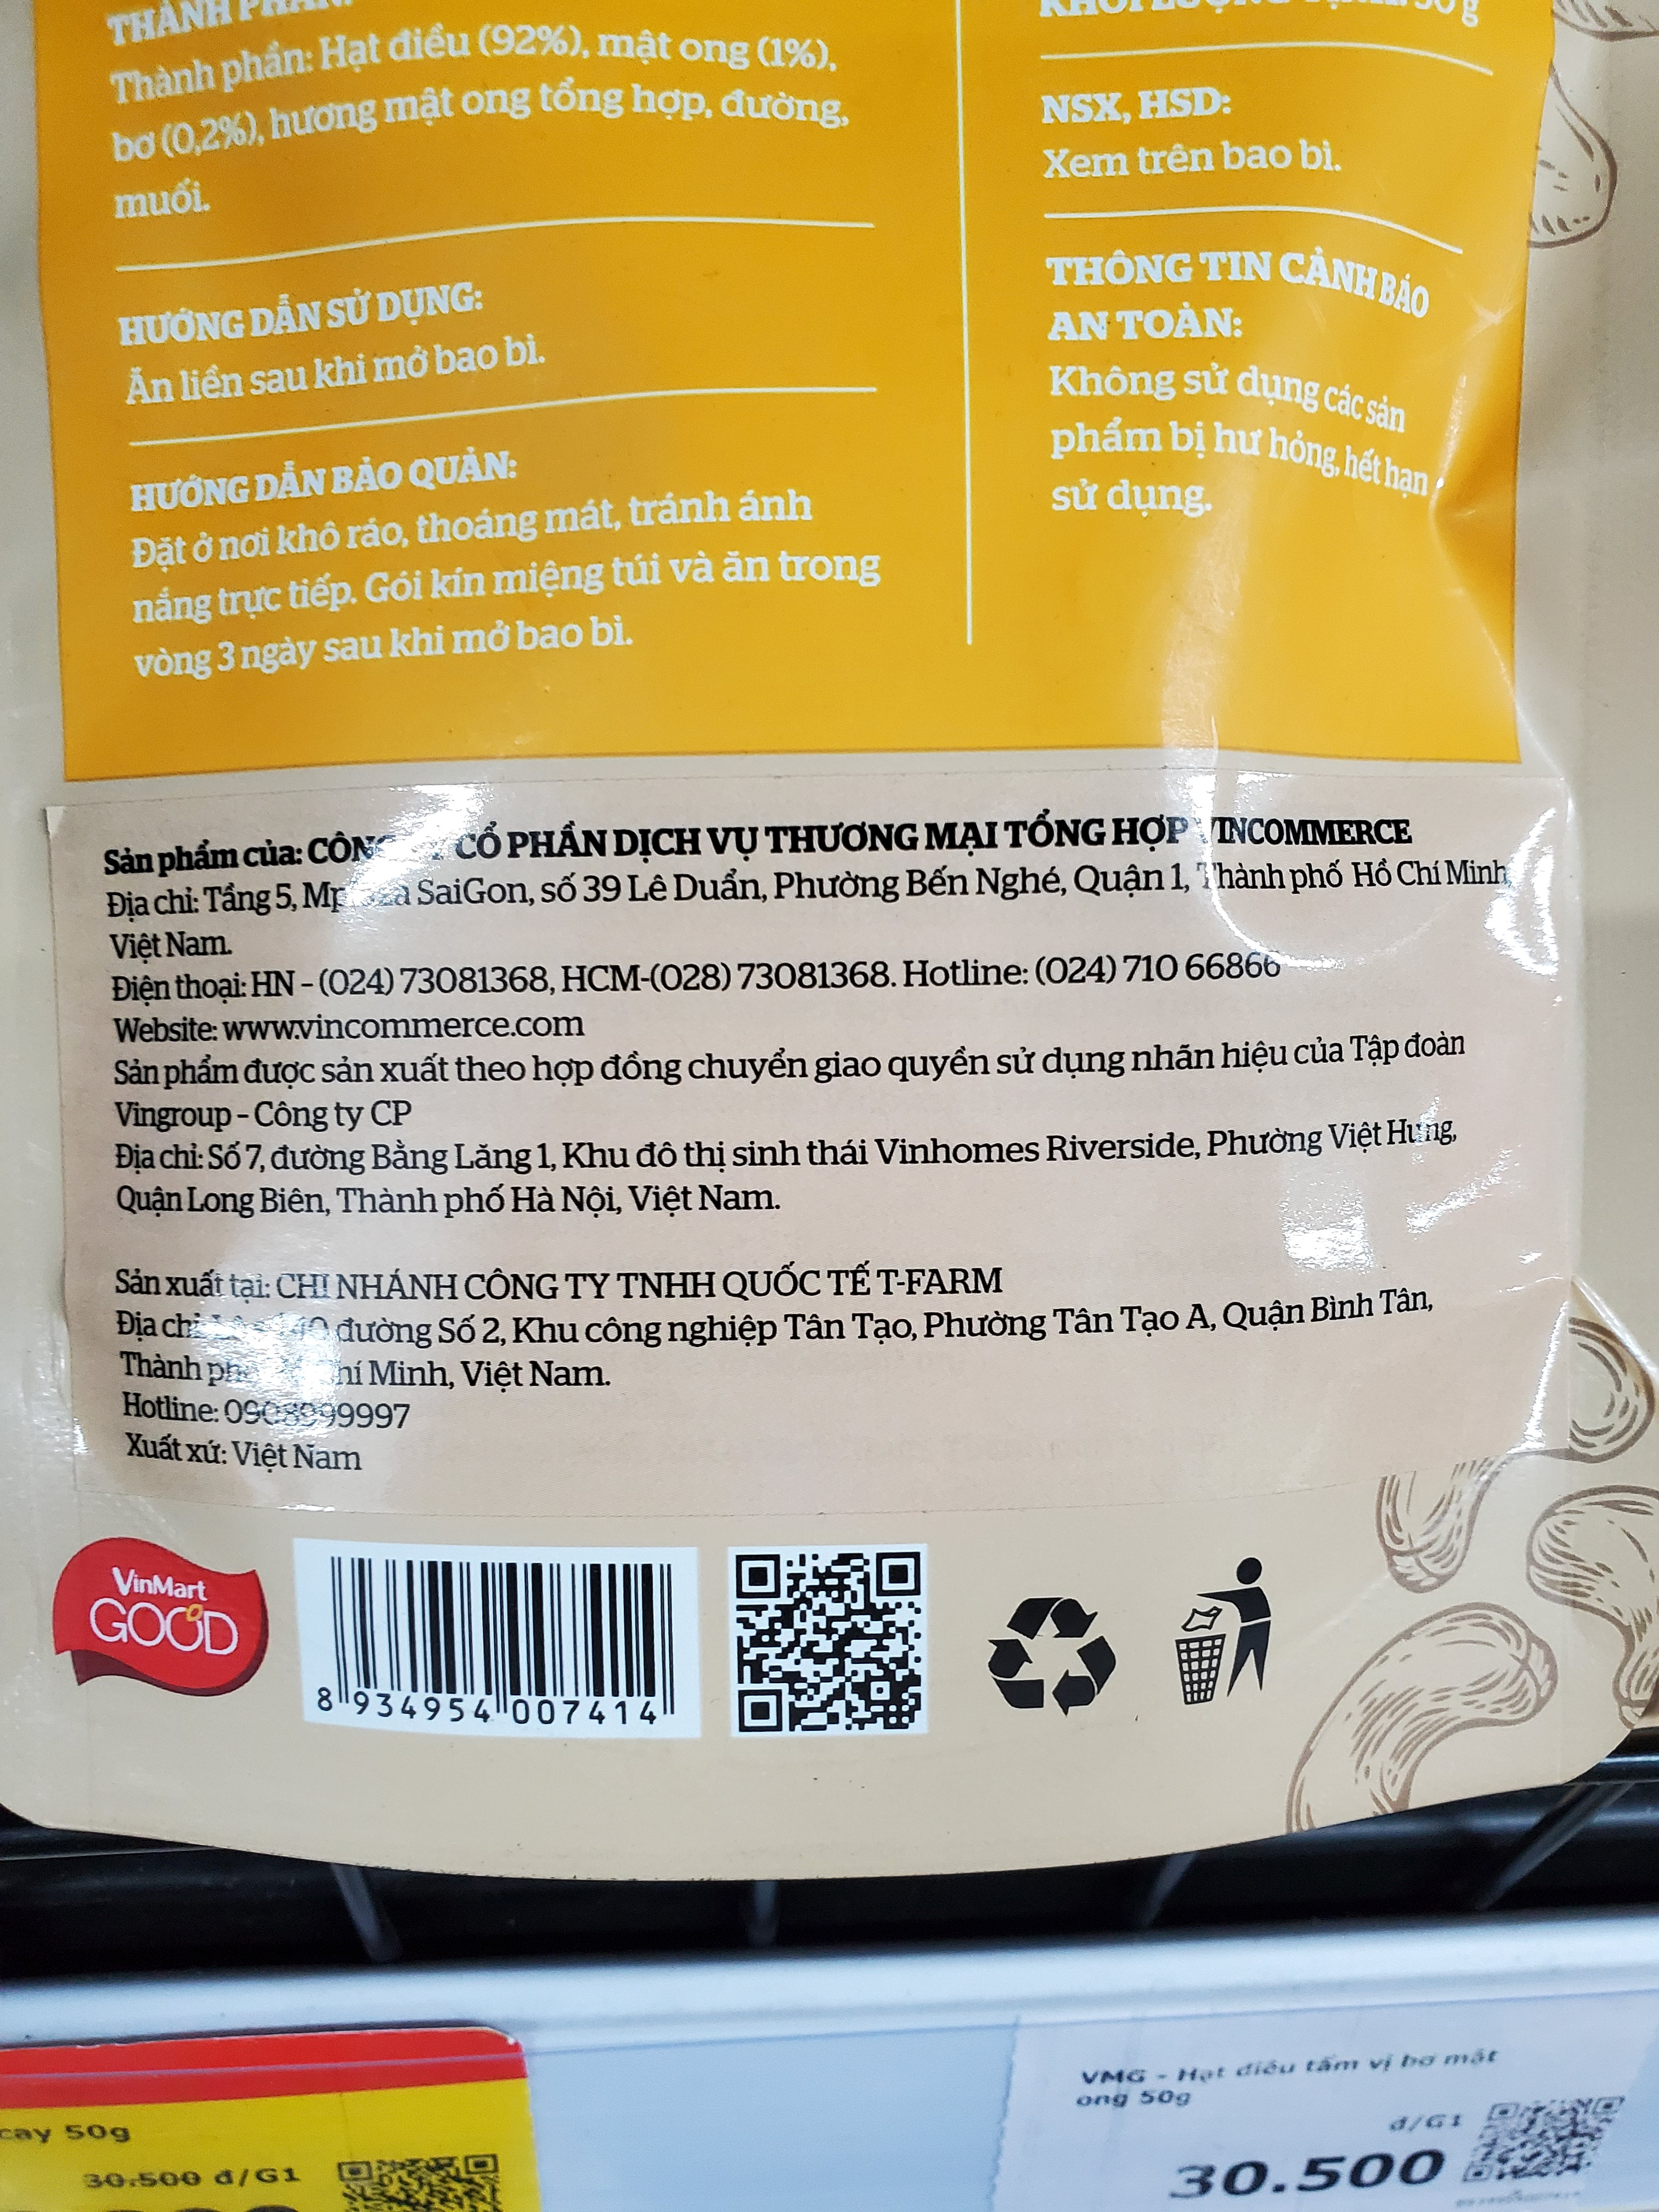barcode: (281, 1536, 708, 1757)
qr code: (721, 1517, 950, 1773)
